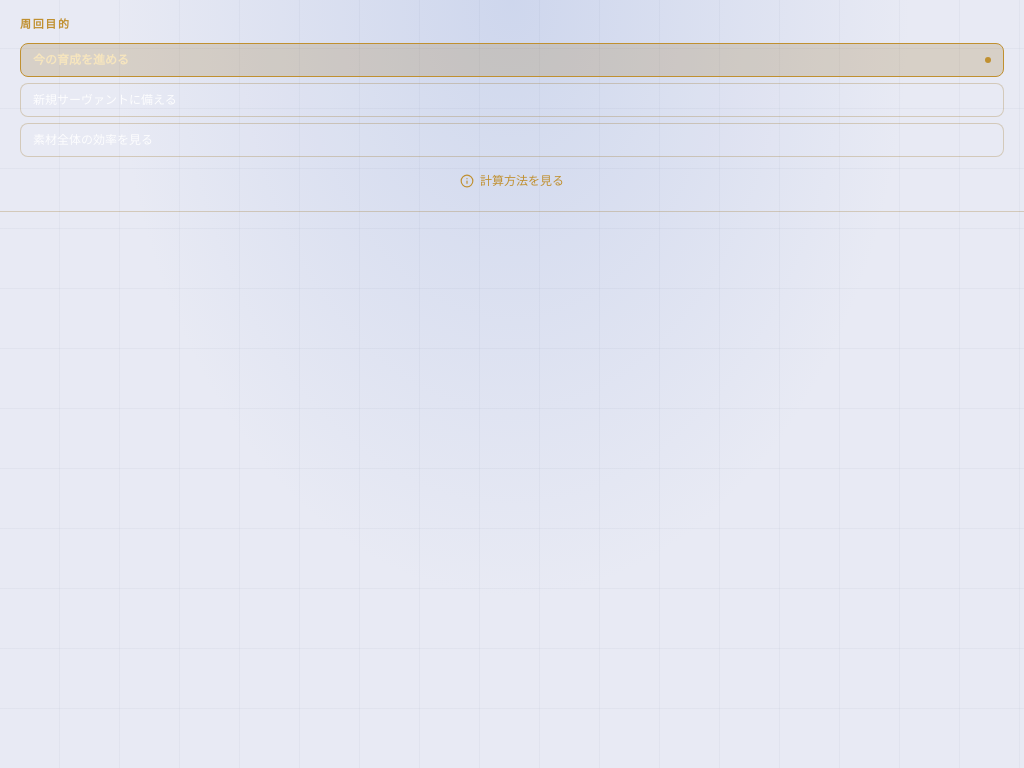
Test: FarmingPurposeSelector › 目的を変更し、計算方法を開ける
The width and height of the screenshot is (1024, 768).
Click the radio button labelled "新規サーヴァントに備える". click: (105, 100)
box: x1=20 y1=82 x2=1004 y2=116
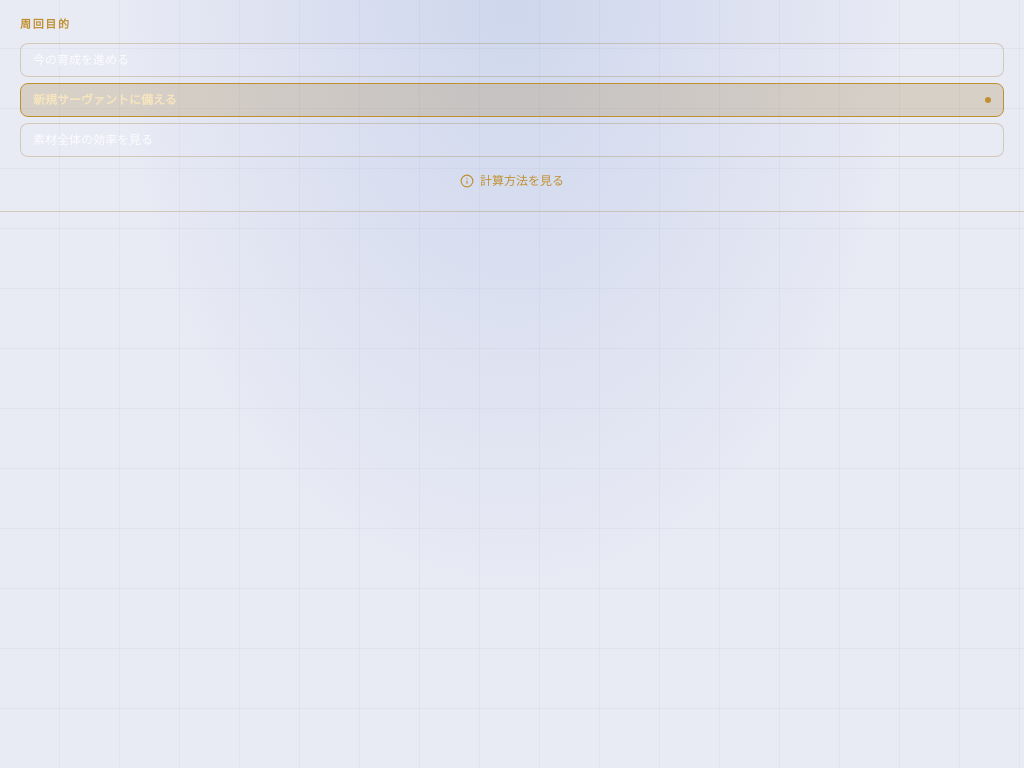
Result: the radio button labelled "新規サーヴァントに備える" is checked at x1=20 y1=82 x2=1004 y2=116
Click the button "計算方法を見る". click: (512, 180)
box: x1=20 y1=166 x2=1004 y2=194
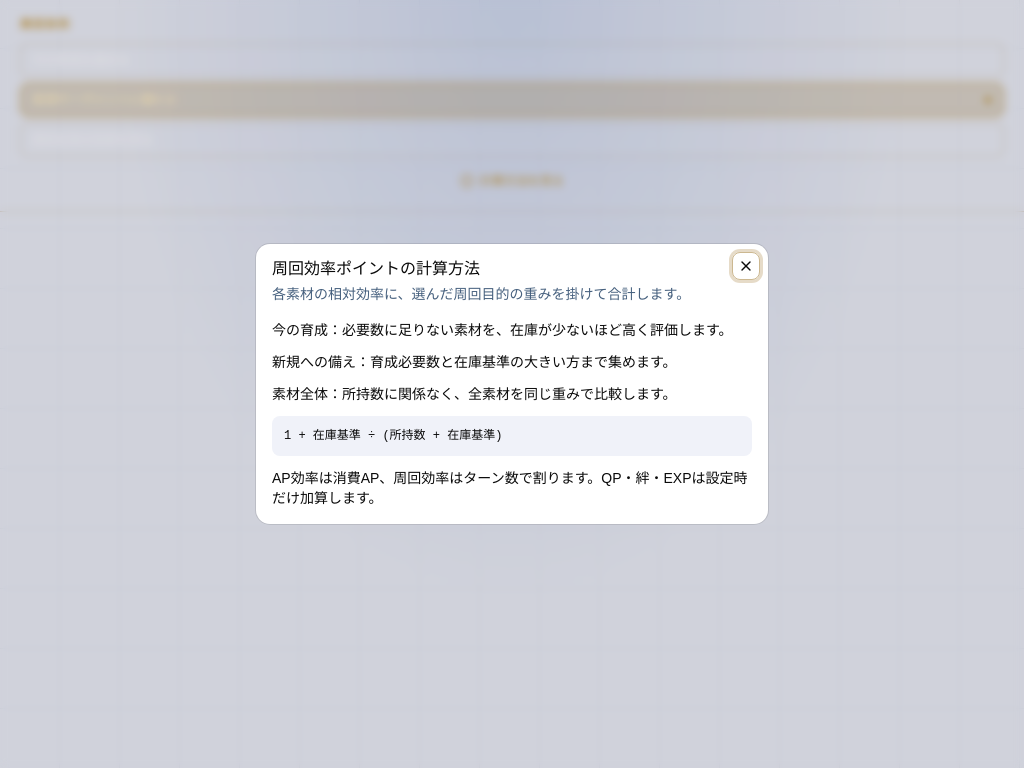
Result: the heading "周回効率ポイントの計算方法" is shown at x1=272 y1=257 x2=480 y2=279
